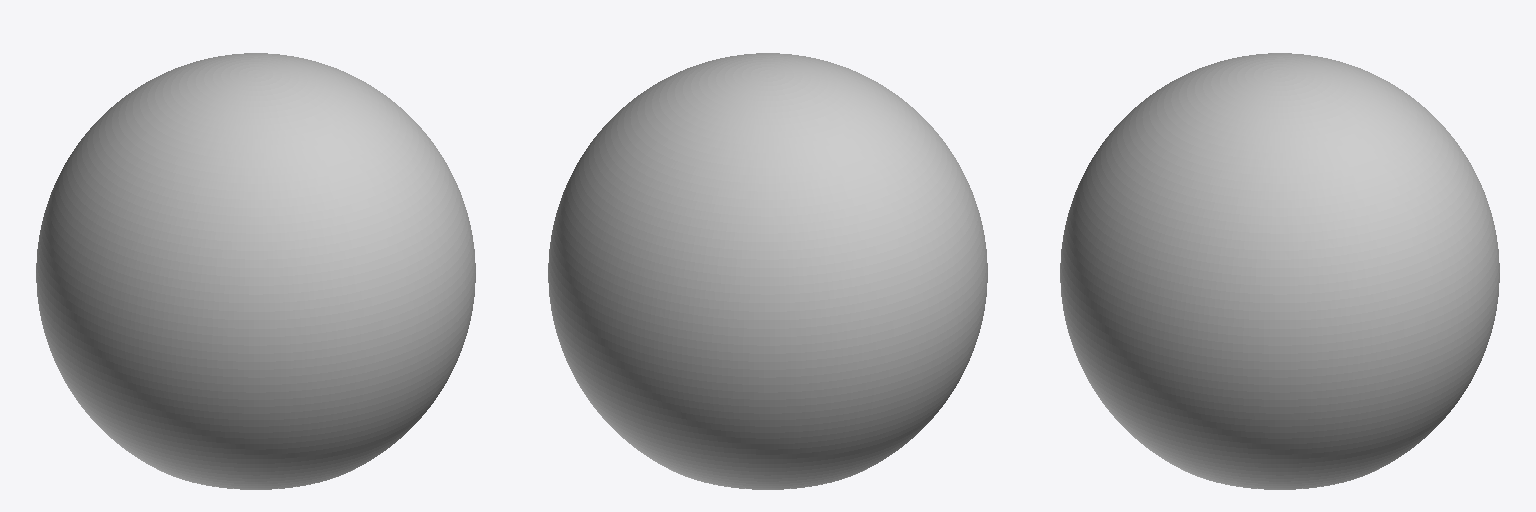
File: ball.obj
3 renders of one model, left to right at view 1: azimuth 30°, elevation 25°; view 2: azimuth 150°, elevation 25°; view 3: azimuth 270°, elevation 25°, orthographic.
Parts seen in each view (by area): view 1: Sphere; view 2: Sphere; view 3: Sphere.
Part boxes in pixels (x1,y1,x2,y2): Sphere: (36,53,475,489); Sphere: (548,53,987,489); Sphere: (1060,53,1499,489).
Size of the model in its own units: 2 by 1.83 by 2.